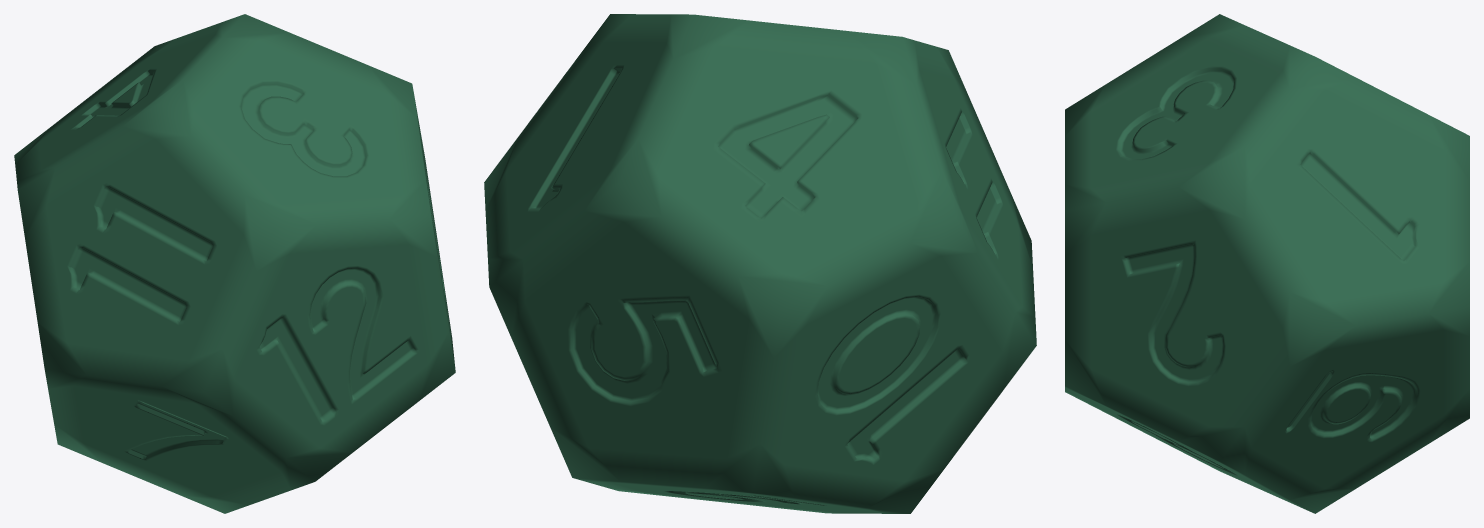
File: die_12.glb
The picture shows the model from 3 angles, left to right: view 1: azimuth 30°, elevation 25°; view 2: azimuth 150°, elevation 25°; view 3: azimuth 270°, elevation 25°; orthographic projection. The views are drawn at different scales.
Bounding box in the file's own units: 45246 × 45246 × 37060.
